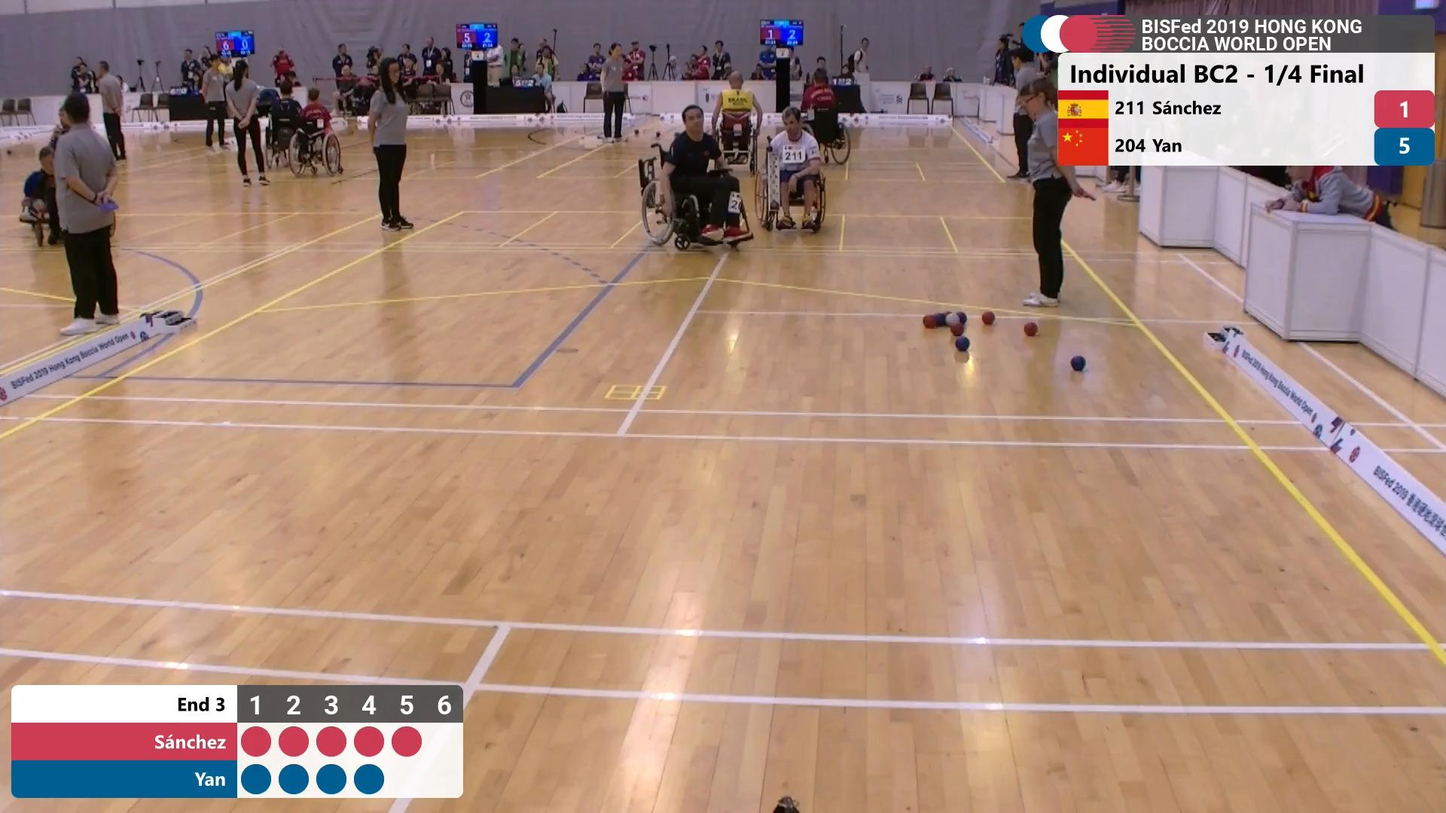blue_ball: (1068, 354, 1087, 373), (953, 336, 971, 353), (933, 311, 947, 328)
red_ball: (1022, 320, 1040, 338), (921, 312, 938, 330), (949, 321, 966, 337), (980, 310, 996, 325)
white_ball: (945, 311, 962, 327)
